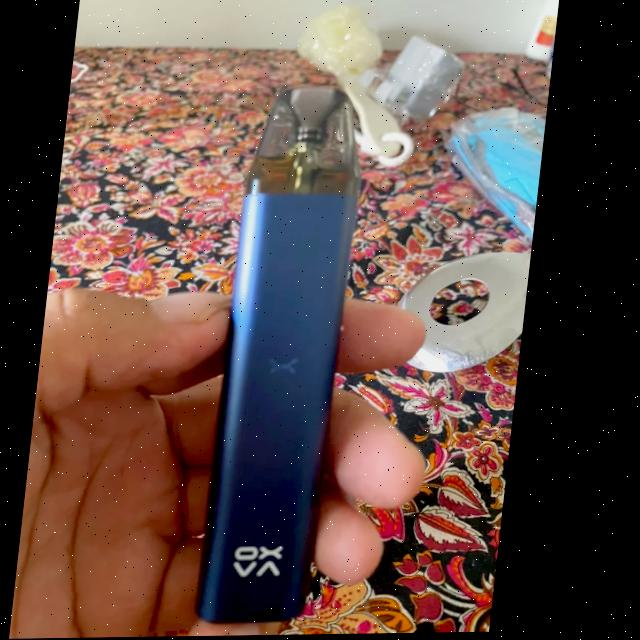vape: (206, 85, 371, 622)
